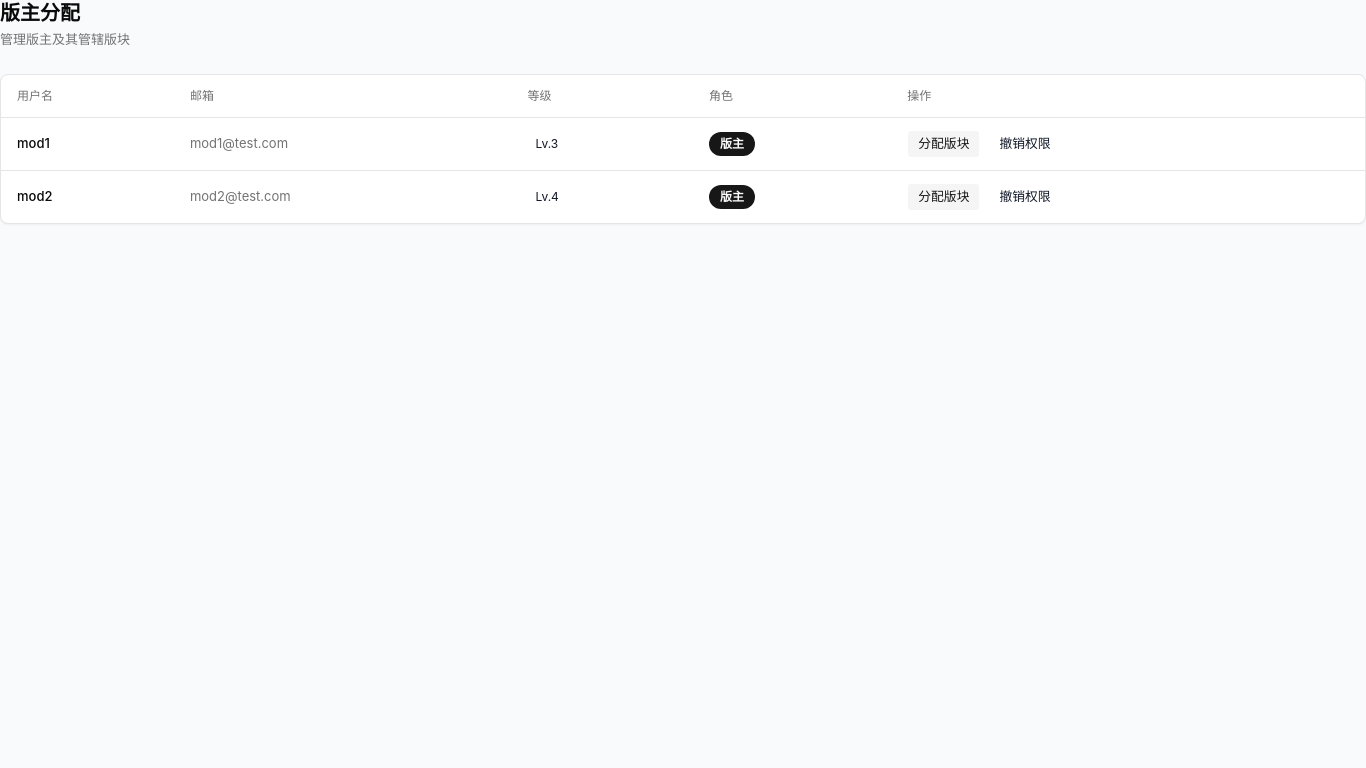
Test: ModeratorAssignmentPage › toggles board selection in modal
Expected: the text "mod1" is shown, [1, 117, 174, 170]
Click the button "分配版块" in the row of "mod1@test.com" at (944, 144), box [907, 130, 980, 158]
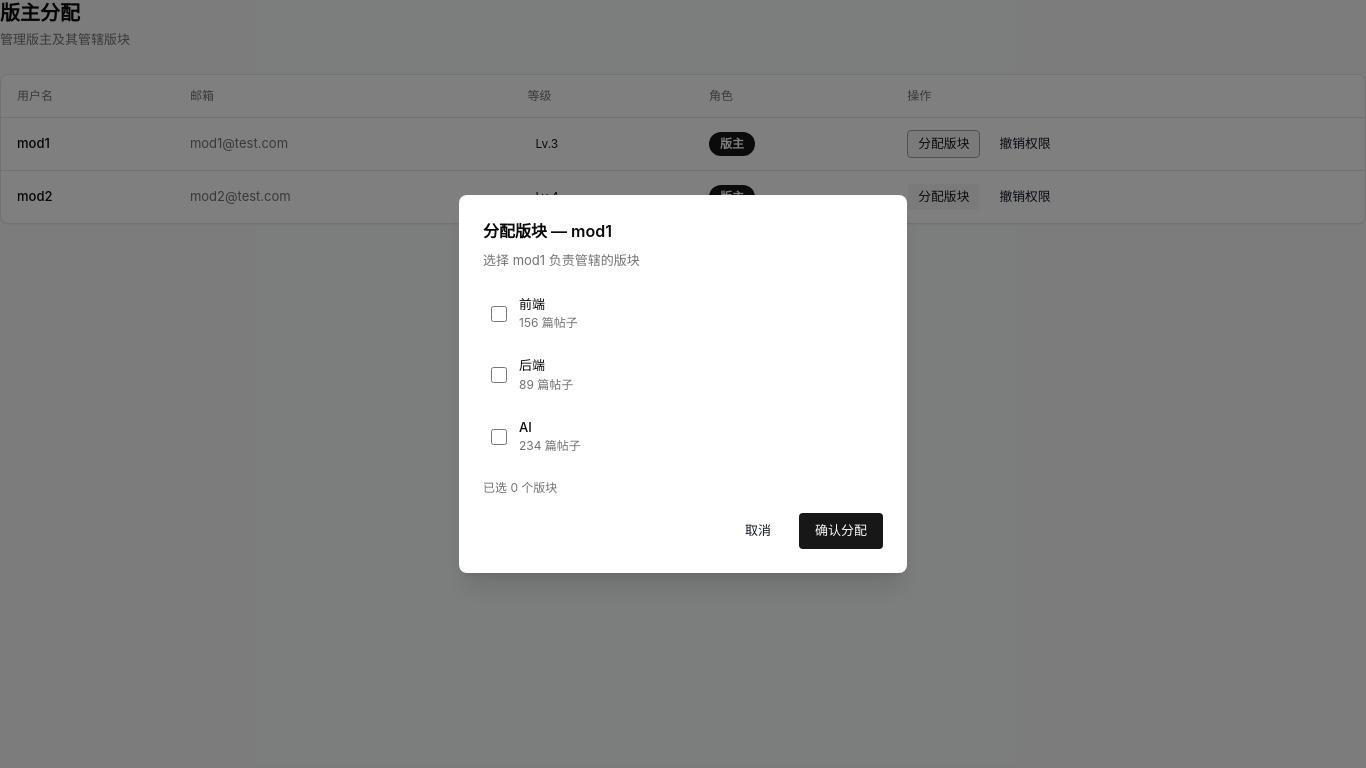
Now the text "前端" is shown, box [519, 296, 545, 312]
Now the number of checkboxes is 3
Now the text "已选 0 个版块" is shown, box [483, 480, 557, 495]
Click the checkbox labelled "前端 156 篇帖子" at (499, 314), box [491, 306, 507, 322]
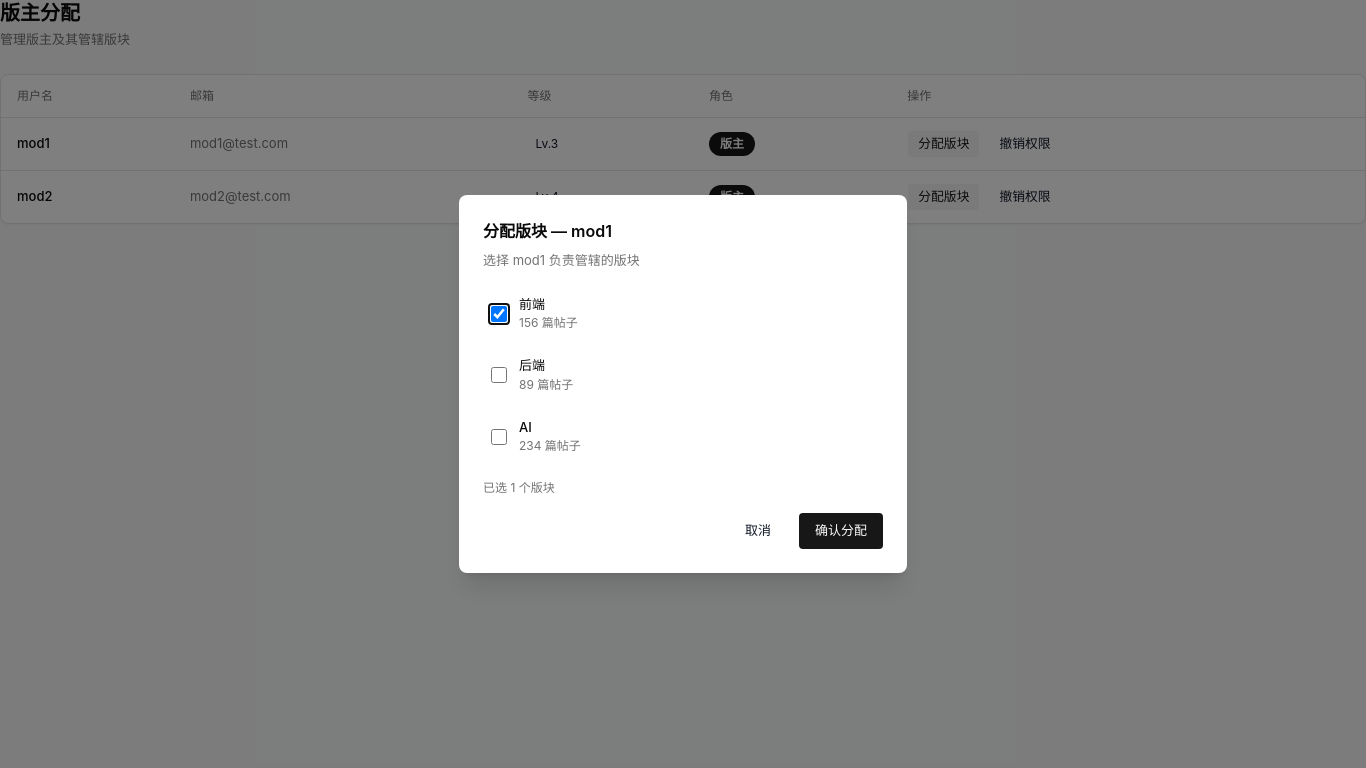
Now the text "已选 1 个版块" is shown, box [483, 480, 555, 495]
Click the checkbox labelled "后端 89 篇帖子" at (499, 375), box [491, 367, 507, 383]
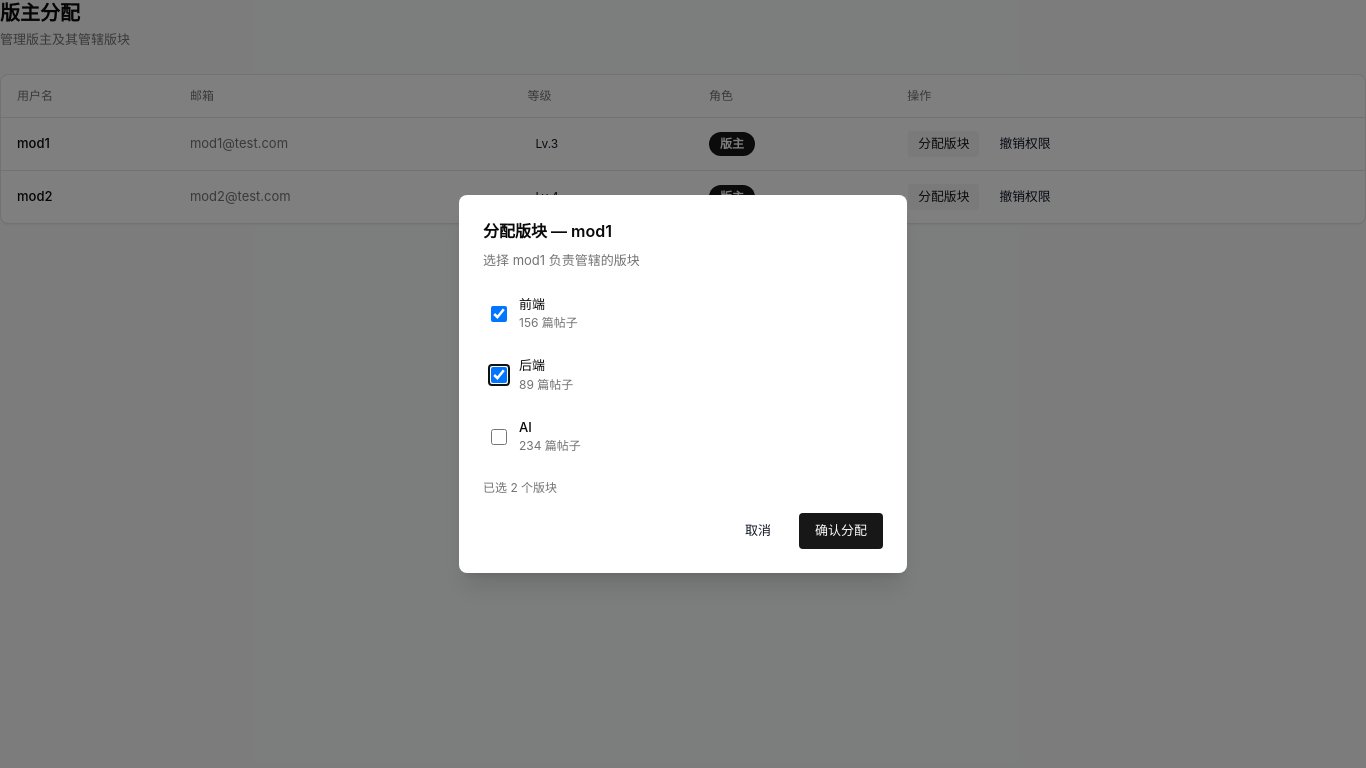
Now the text "已选 2 个版块" is shown, box [483, 480, 557, 495]
